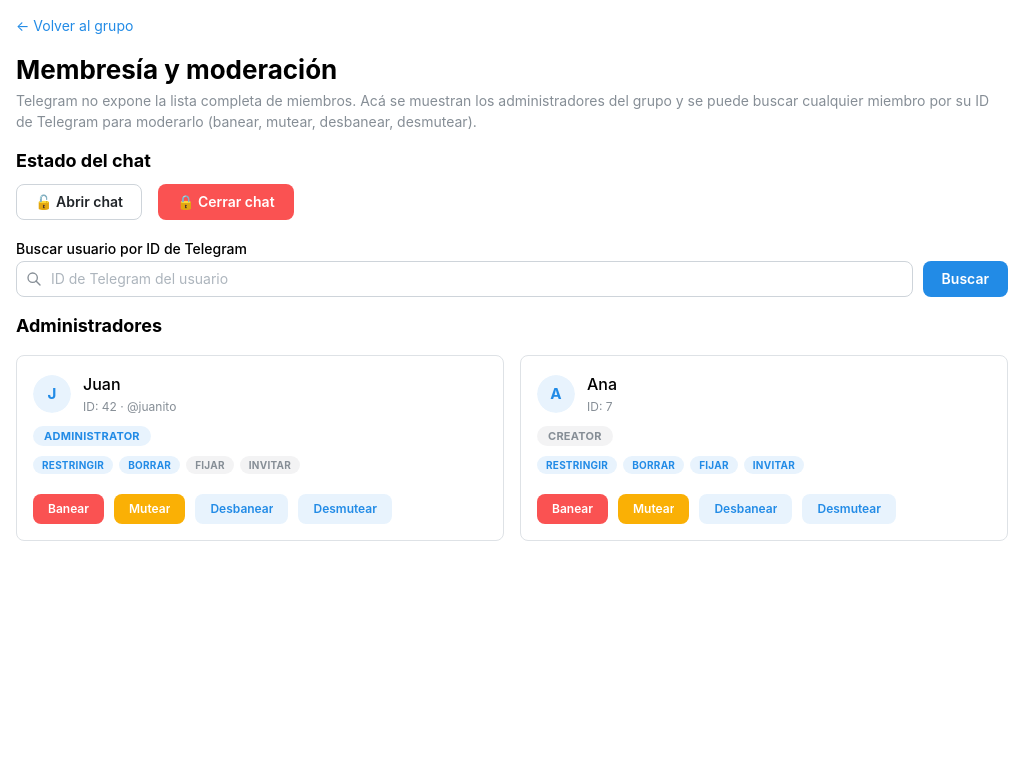
Test case: GroupUsersPage › banea un usuario cuando el admin confirma desde el Modal
Click the button "Banear" below "administrator" at (68,509), box [33, 494, 104, 524]
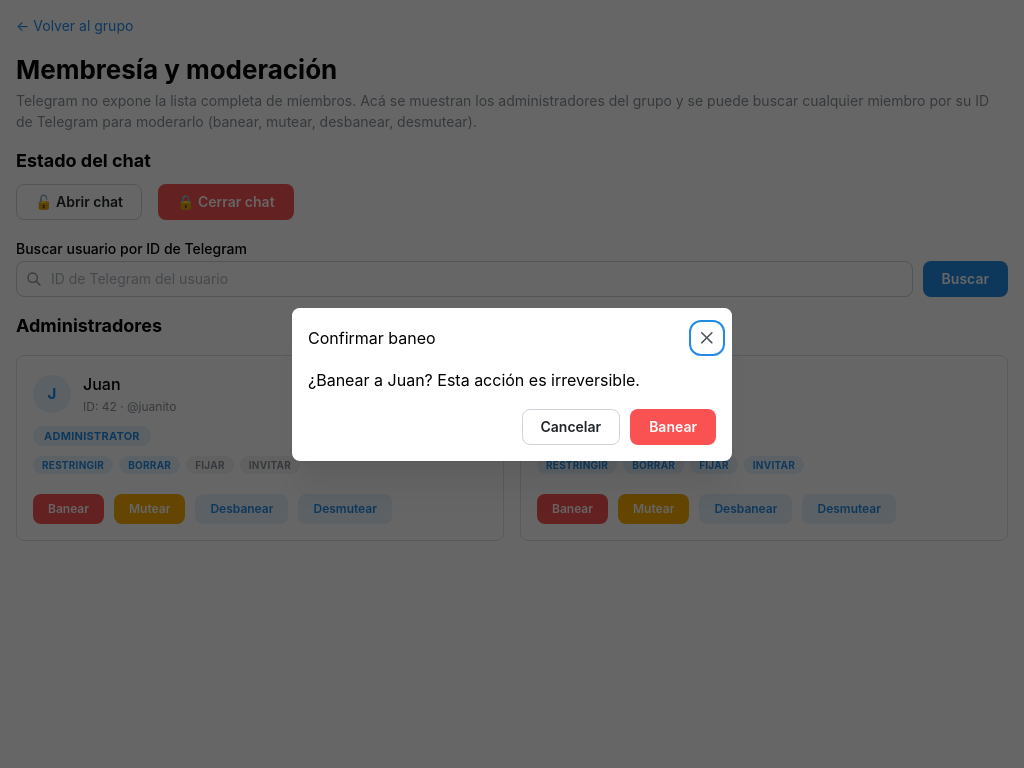
Result: the heading "Confirmar baneo" is shown at [308, 330, 436, 346]
Click the button with test id "confirm-ban" at (673,426), box [630, 408, 716, 444]
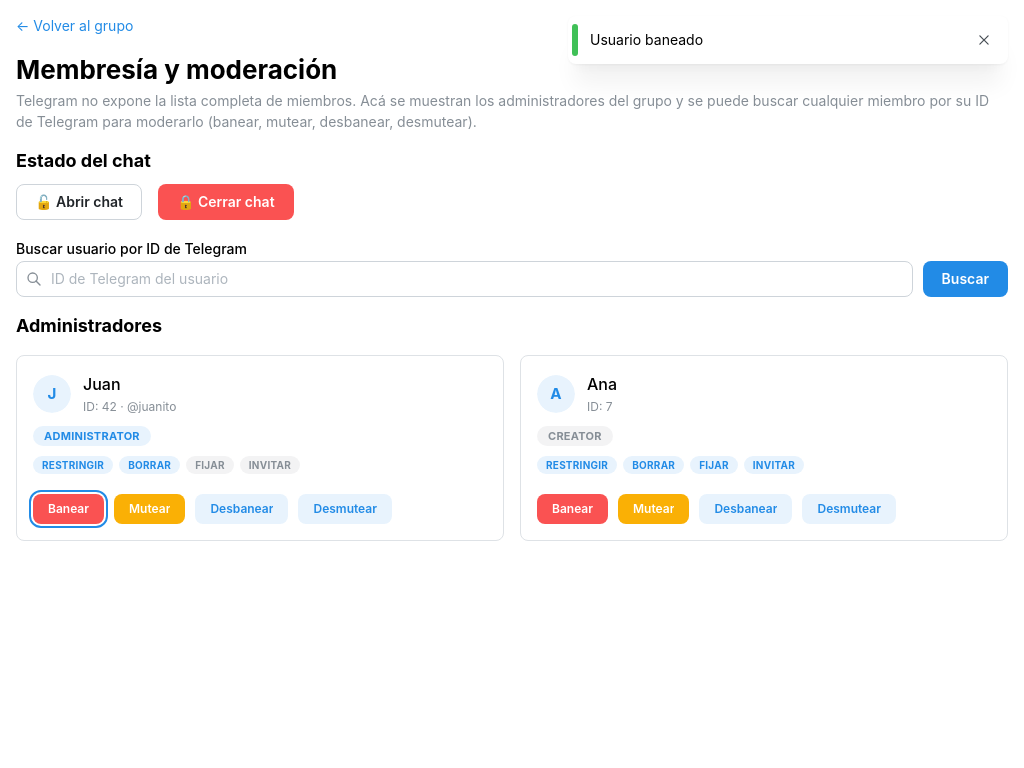
Result: the text "Usuario baneado" is shown at [590, 31, 703, 48]
